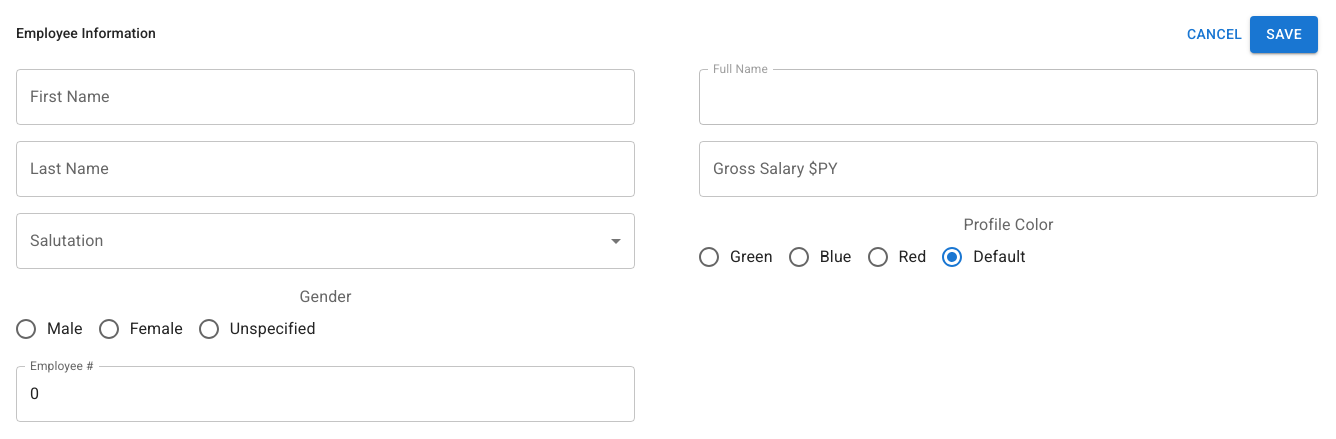
Test case: Form Input Handling › should update firstName with sanitized value
Type "John123" into the field labelled "First Name" at (326, 96), box [16,68,635,124]
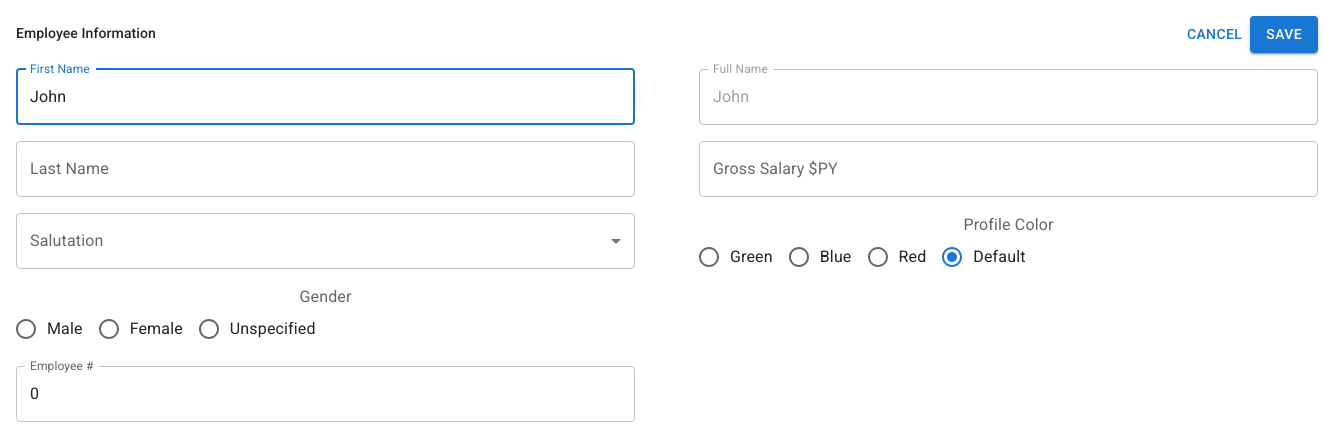
Now the field labelled "First Name" holds "John", box [16,68,635,124]
